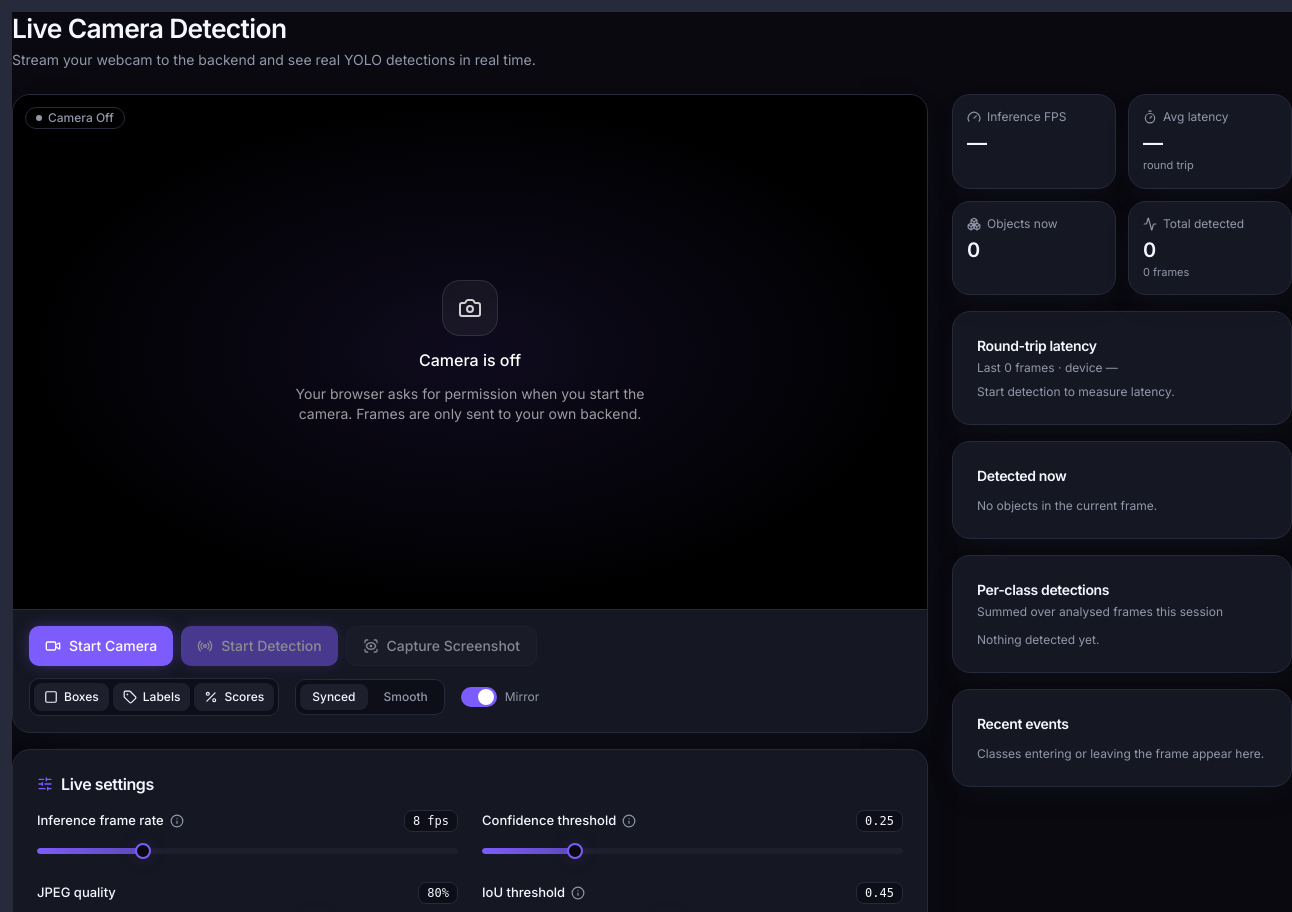
Scenario: Live camera › explains a denied permission
Click the button "Start Camera": (101, 646) [29,626,173,666]
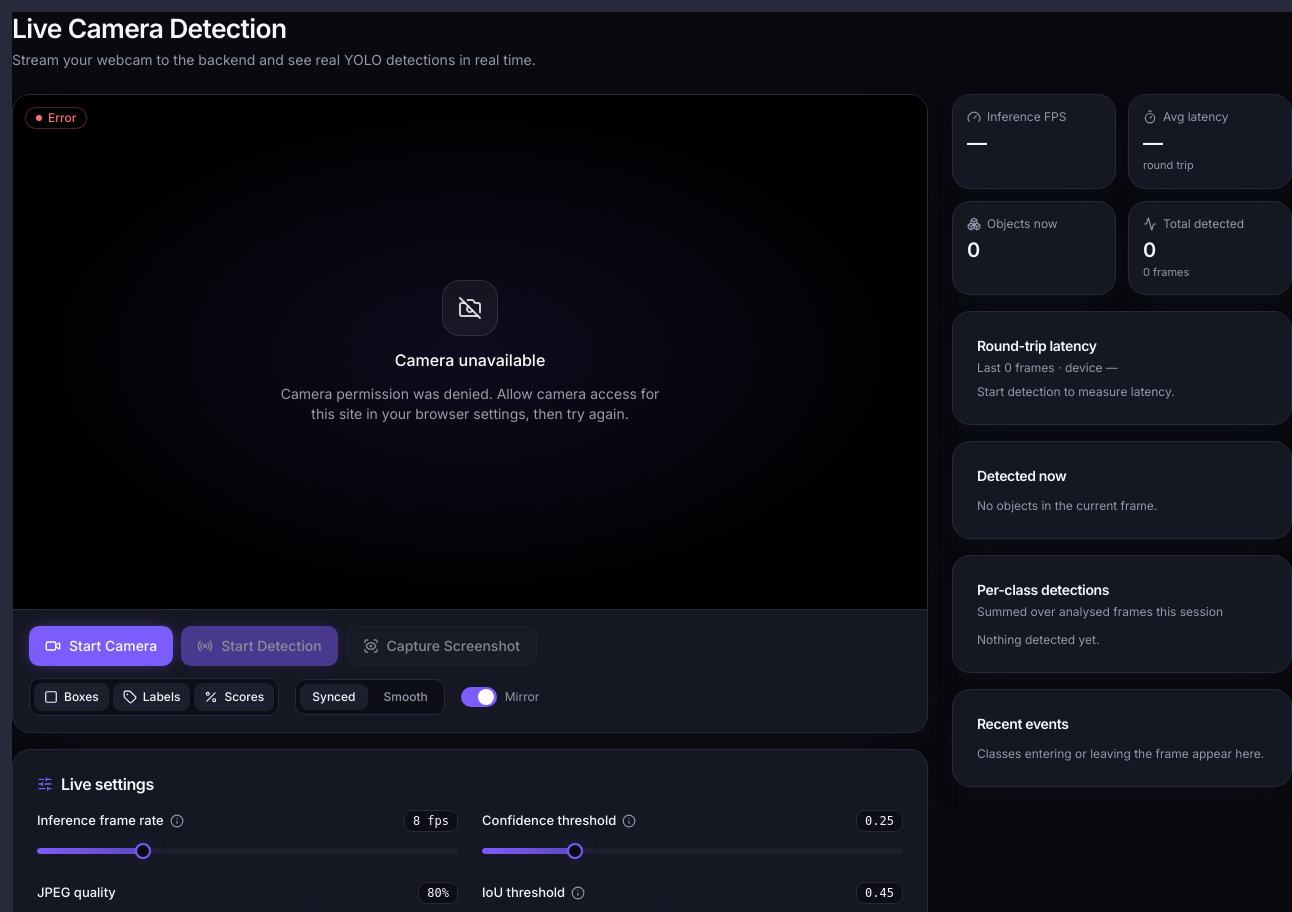
Check: the button "Start Detection" is disabled, box [181,626,338,666]
Check: the text "Camera permission was denied" is shown, box [281,385,659,422]
Check: the text "Error" is shown, box [25,107,87,129]
